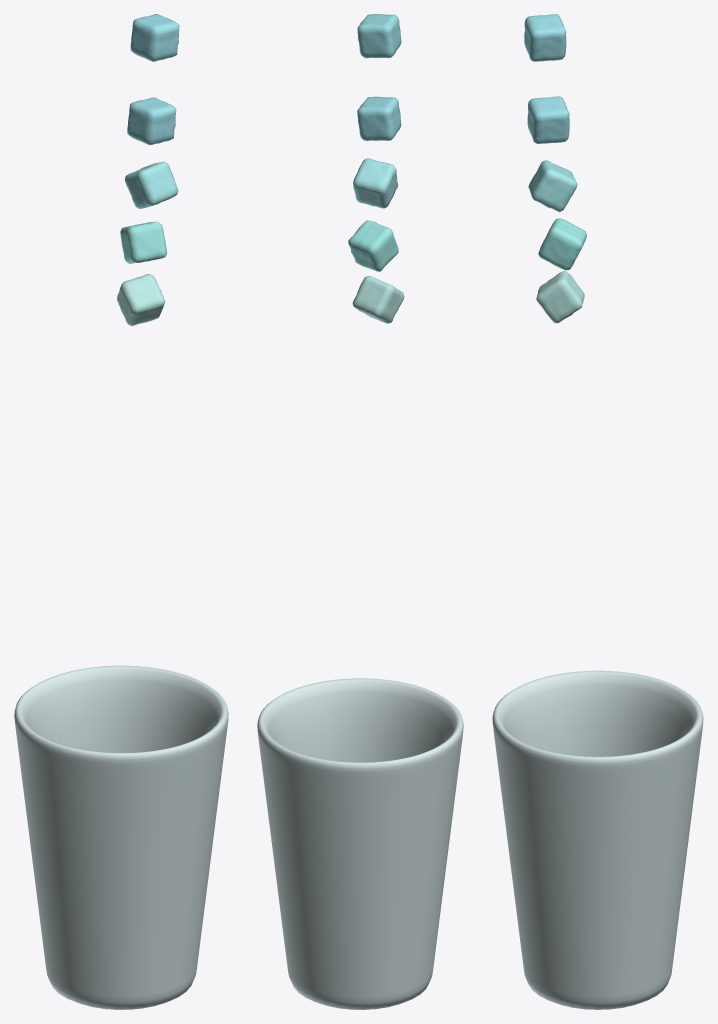
Rendered from IceFall.glb.
3 renders of one model, left to right at view 1: azimuth 30°, elevation 25°; view 2: azimuth 150°, elevation 25°; view 3: azimuth 270°, elevation 25°, orthographic. The views are drawn at different scales.
Visible parts, largest first — view 1: Circle, Cube.002, Cube.004, Cube, Cube.003, Cube.001; view 2: Circle, Cube.001, Cube.003, Cube.004, Cube.002, Cube; view 3: Circle, Cube.004, Cube.002, Cube.003, Cube, Cube.001.
Part boxes in pixels (x1,y1,x2,y2): Circle: [14, 665, 228, 1009]; Cube.002: [127, 97, 176, 145]; Cube.004: [130, 14, 179, 61]; Cube: [117, 274, 165, 326]; Cube.003: [125, 161, 178, 208]; Cube.001: [120, 221, 166, 263]; Circle: [257, 678, 463, 1009]; Cube.001: [348, 220, 398, 271]; Cube.003: [353, 158, 398, 208]; Cube.004: [357, 14, 401, 58]; Cube.002: [357, 96, 401, 140]; Cube: [352, 275, 404, 323]; Circle: [492, 670, 703, 1009]; Cube.004: [524, 14, 566, 61]; Cube.002: [527, 96, 569, 143]; Cube.003: [528, 160, 577, 212]; Cube: [536, 271, 584, 323]; Cube.001: [538, 218, 586, 270].
Bounding box in the file's own units: 4.66 × 23.68 × 4.66.
